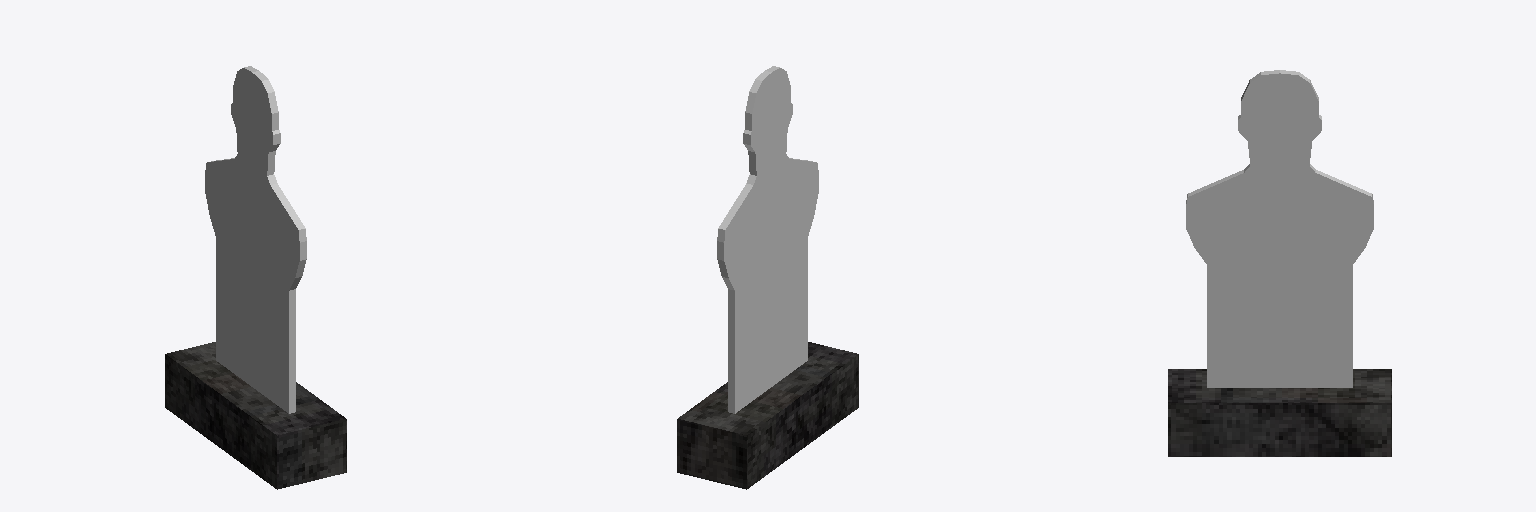
3 views of the same model, side by side, from view 1: azimuth 30°, elevation 25°; view 2: azimuth 150°, elevation 25°; view 3: azimuth 270°, elevation 25° (orthographic).
Visible parts, largest first — view 1: Cube_Cube.001; view 2: Cube_Cube.001; view 3: Cube_Cube.001.
Boxes of the visible parts, <box> form: Cube_Cube.001: <box>165,66,346,489</box>; Cube_Cube.001: <box>677,66,858,489</box>; Cube_Cube.001: <box>1168,70,1391,456</box>.
Bounding box in the file's own units: 0.7685 × 3.9 × 2.14.
Materials: 2 (1 with a texture image).